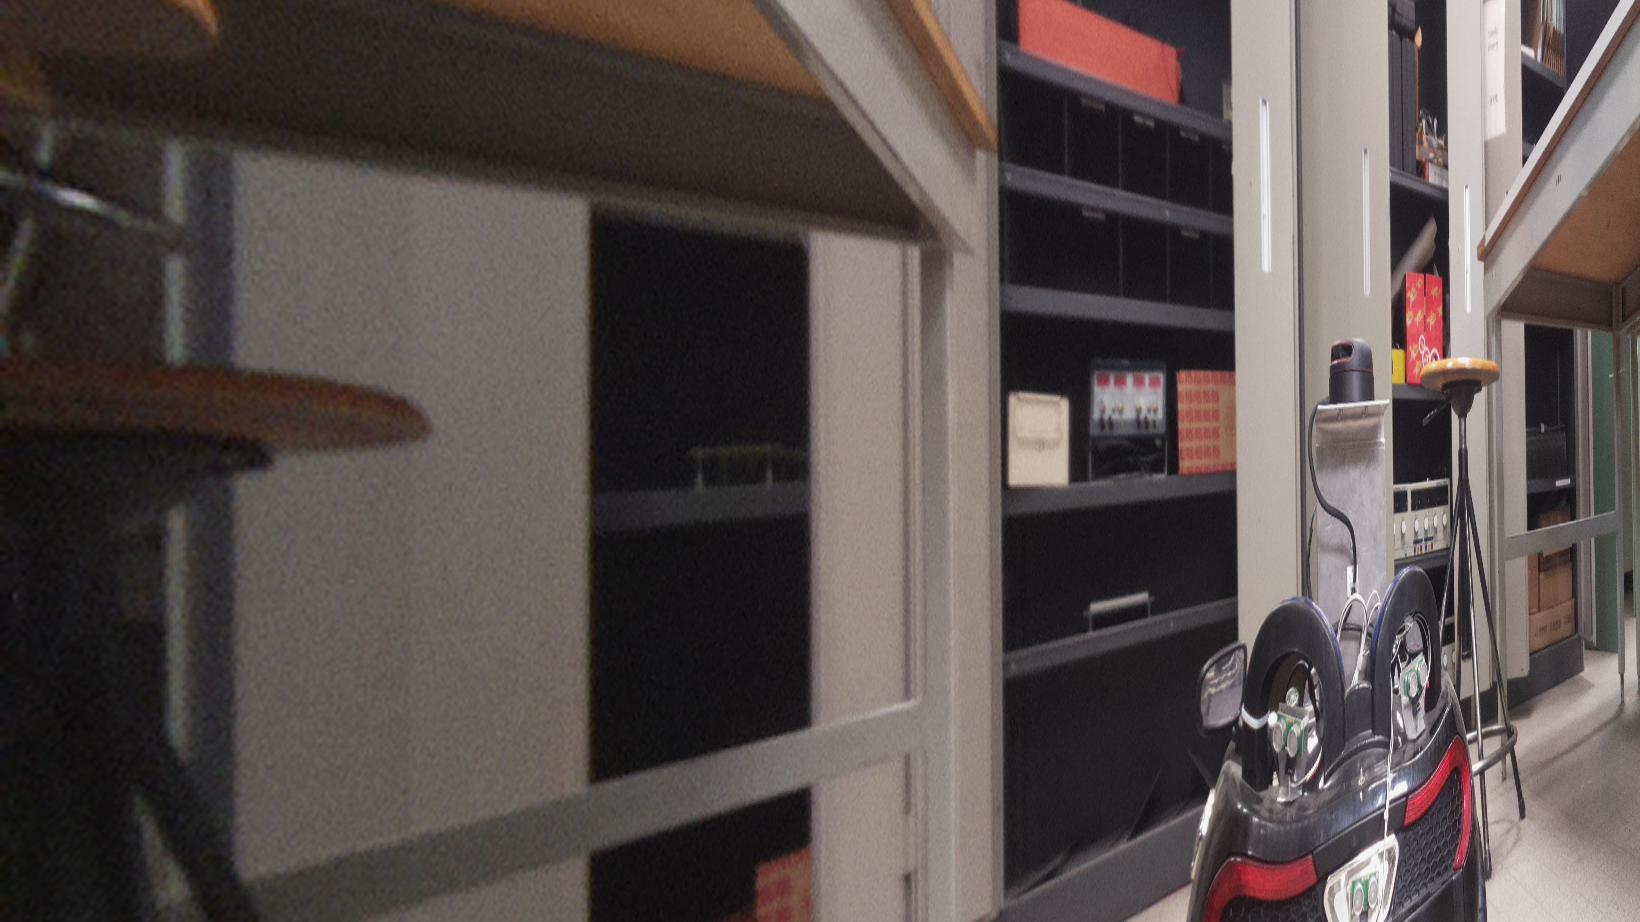big: (1185, 560, 1498, 922)
